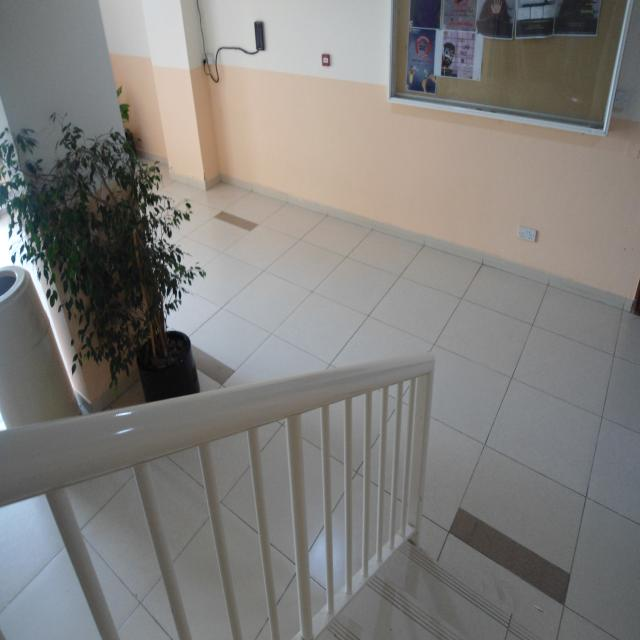board: (380, 0, 640, 144)
dustbin: (0, 262, 80, 470)
pillar: (0, 0, 163, 402)
railing: (0, 344, 439, 640)
stairs: (293, 510, 559, 640)
tree-chair-bench-table-wall: (4, 128, 221, 400)
